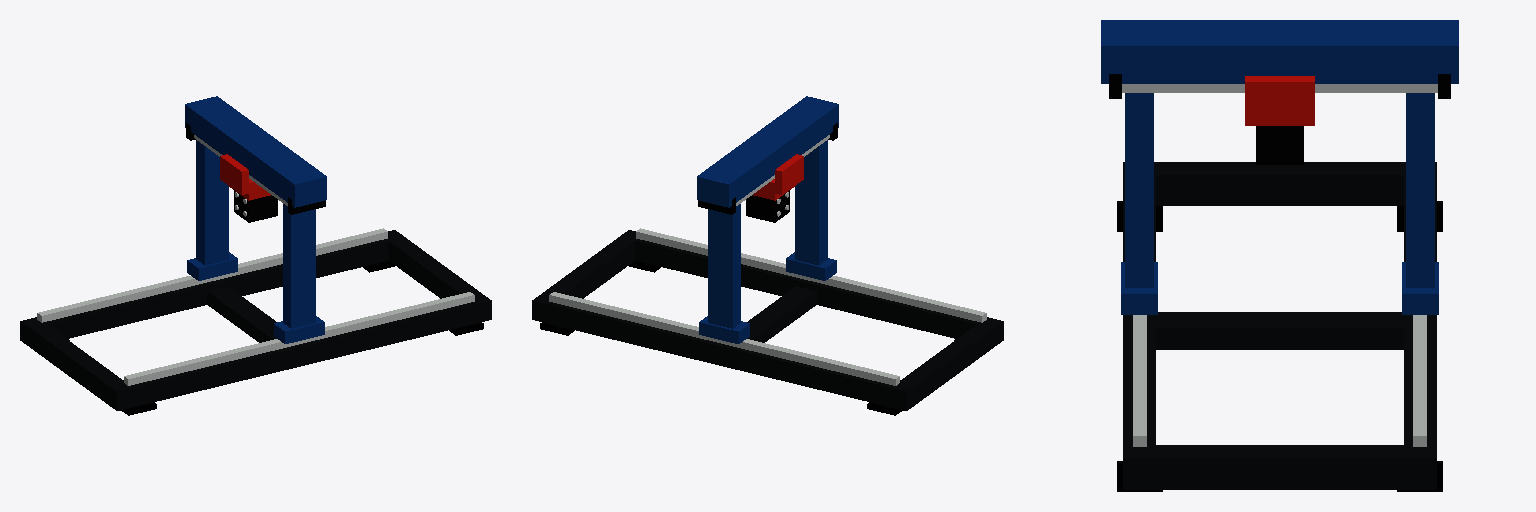
robot.urdf — bench_automation_gantry:
<robot name="bench_automation_gantry">
  <material name="black_anodized_aluminum">
    <color rgba="0.05 0.055 0.06 1" />
    </material>
  <material name="blue_gantry_carriage">
    <color rgba="0.04 0.19 0.42 1" />
    </material>
  <material name="red_center_shuttle">
    <color rgba="0.75 0.08 0.05 1" />
    </material>
  <material name="brushed_linear_rail_steel">
    <color rgba="0.72 0.74 0.73 1" />
    </material>
  <material name="matte_black_rubber">
    <color rgba="0.01 0.01 0.01 1" />
    </material>
  <material name="dark_fasteners">
    <color rgba="0.02 0.02 0.025 1" />
    </material>
  <link name="base_frame">
    <visual name="side_beam_0">
      <origin xyz="0 -0.32 0.04" rpy="0 0 0" />
      <geometry>
        <box size="1.6 0.075 0.08" />
        </geometry>
      <material name="black_anodized_aluminum">
        <color rgba="0.05 0.055 0.06 1" />
        </material>
      </visual>
    <visual name="side_beam_1">
      <origin xyz="0 0.32 0.04" rpy="0 0 0" />
      <geometry>
        <box size="1.6 0.075 0.08" />
        </geometry>
      <material name="black_anodized_aluminum">
        <color rgba="0.05 0.055 0.06 1" />
        </material>
      </visual>
    <visual name="end_beam_0">
      <origin xyz="-0.765 0 0.04" rpy="0 0 0" />
      <geometry>
        <box size="0.07 0.715 0.08" />
        </geometry>
      <material name="black_anodized_aluminum">
        <color rgba="0.05 0.055 0.06 1" />
        </material>
      </visual>
    <visual name="end_beam_1">
      <origin xyz="0.765 0 0.04" rpy="0 0 0" />
      <geometry>
        <box size="0.07 0.715 0.08" />
        </geometry>
      <material name="black_anodized_aluminum">
        <color rgba="0.05 0.055 0.06 1" />
        </material>
      </visual>
    <visual name="center_tie">
      <origin xyz="0 0 0.0275" rpy="0 0 0" />
      <geometry>
        <box size="0.09 0.715 0.055" />
        </geometry>
      <material name="black_anodized_aluminum">
        <color rgba="0.05 0.055 0.06 1" />
        </material>
      </visual>
    <visual name="linear_rail_0">
      <origin xyz="0 -0.32 0.094" rpy="0 0 0" />
      <geometry>
        <box size="1.48 0.032 0.028" />
        </geometry>
      <material name="brushed_linear_rail_steel">
        <color rgba="0.72 0.74 0.73 1" />
        </material>
      </visual>
    <visual name="linear_rail_1">
      <origin xyz="0 0.32 0.094" rpy="0 0 0" />
      <geometry>
        <box size="1.48 0.032 0.028" />
        </geometry>
      <material name="brushed_linear_rail_steel">
        <color rgba="0.72 0.74 0.73 1" />
        </material>
      </visual>
    <visual name="foot_0">
      <origin xyz="-0.7 -0.32 -0.011" rpy="0 0 0" />
      <geometry>
        <box size="0.12 0.105 0.022" />
        </geometry>
      <material name="matte_black_rubber">
        <color rgba="0.01 0.01 0.01 1" />
        </material>
      </visual>
    <visual name="foot_1">
      <origin xyz="-0.7 0.32 -0.011" rpy="0 0 0" />
      <geometry>
        <box size="0.12 0.105 0.022" />
        </geometry>
      <material name="matte_black_rubber">
        <color rgba="0.01 0.01 0.01 1" />
        </material>
      </visual>
    <visual name="foot_2">
      <origin xyz="0.7 -0.32 -0.011" rpy="0 0 0" />
      <geometry>
        <box size="0.12 0.105 0.022" />
        </geometry>
      <material name="matte_black_rubber">
        <color rgba="0.01 0.01 0.01 1" />
        </material>
      </visual>
    <visual name="foot_3">
      <origin xyz="0.7 0.32 -0.011" rpy="0 0 0" />
      <geometry>
        <box size="0.12 0.105 0.022" />
        </geometry>
      <material name="matte_black_rubber">
        <color rgba="0.01 0.01 0.01 1" />
        </material>
      </visual>
    <collision name="side_beam_0">
      <origin xyz="0 -0.32 0.04" rpy="0 0 0" />
      <geometry>
        <box size="1.6 0.075 0.08" />
        </geometry>
      </collision>
    <collision name="side_beam_1">
      <origin xyz="0 0.32 0.04" rpy="0 0 0" />
      <geometry>
        <box size="1.6 0.075 0.08" />
        </geometry>
      </collision>
    <collision name="end_beam_0">
      <origin xyz="-0.765 0 0.04" rpy="0 0 0" />
      <geometry>
        <box size="0.07 0.715 0.08" />
        </geometry>
      </collision>
    <collision name="end_beam_1">
      <origin xyz="0.765 0 0.04" rpy="0 0 0" />
      <geometry>
        <box size="0.07 0.715 0.08" />
        </geometry>
      </collision>
    <collision name="center_tie">
      <origin xyz="0 0 0.0275" rpy="0 0 0" />
      <geometry>
        <box size="0.09 0.715 0.055" />
        </geometry>
      </collision>
    <collision name="linear_rail_0">
      <origin xyz="0 -0.32 0.094" rpy="0 0 0" />
      <geometry>
        <box size="1.48 0.032 0.028" />
        </geometry>
      </collision>
    <collision name="linear_rail_1">
      <origin xyz="0 0.32 0.094" rpy="0 0 0" />
      <geometry>
        <box size="1.48 0.032 0.028" />
        </geometry>
      </collision>
    <collision name="foot_0">
      <origin xyz="-0.7 -0.32 -0.011" rpy="0 0 0" />
      <geometry>
        <box size="0.12 0.105 0.022" />
        </geometry>
      </collision>
    <collision name="foot_1">
      <origin xyz="-0.7 0.32 -0.011" rpy="0 0 0" />
      <geometry>
        <box size="0.12 0.105 0.022" />
        </geometry>
      </collision>
    <collision name="foot_2">
      <origin xyz="0.7 -0.32 -0.011" rpy="0 0 0" />
      <geometry>
        <box size="0.12 0.105 0.022" />
        </geometry>
      </collision>
    <collision name="foot_3">
      <origin xyz="0.7 0.32 -0.011" rpy="0 0 0" />
      <geometry>
        <box size="0.12 0.105 0.022" />
        </geometry>
      </collision>
    </link>
  <link name="bridge_carriage">
    <visual name="rail_shoe_0">
      <origin xyz="0 -0.32 0.134" rpy="0 0 0" />
      <geometry>
        <box size="0.17 0.085 0.052" />
        </geometry>
      <material name="blue_gantry_carriage">
        <color rgba="0.04 0.19 0.42 1" />
        </material>
      </visual>
    <visual name="upright_0">
      <origin xyz="0 -0.32 0.42" rpy="0 0 0" />
      <geometry>
        <box size="0.105 0.065 0.52" />
        </geometry>
      <material name="blue_gantry_carriage">
        <color rgba="0.04 0.19 0.42 1" />
        </material>
      </visual>
    <visual name="rail_shoe_1">
      <origin xyz="0 0.32 0.134" rpy="0 0 0" />
      <geometry>
        <box size="0.17 0.085 0.052" />
        </geometry>
      <material name="blue_gantry_carriage">
        <color rgba="0.04 0.19 0.42 1" />
        </material>
      </visual>
    <visual name="upright_1">
      <origin xyz="0 0.32 0.42" rpy="0 0 0" />
      <geometry>
        <box size="0.105 0.065 0.52" />
        </geometry>
      <material name="blue_gantry_carriage">
        <color rgba="0.04 0.19 0.42 1" />
        </material>
      </visual>
    <visual name="top_crossbeam">
      <origin xyz="0 0 0.728" rpy="0 0 0" />
      <geometry>
        <box size="0.14 0.815 0.095" />
        </geometry>
      <material name="blue_gantry_carriage">
        <color rgba="0.04 0.19 0.42 1" />
        </material>
      </visual>
    <visual name="y_linear_rail">
      <origin xyz="0 0 0.666" rpy="0 0 0" />
      <geometry>
        <box size="0.11 0.72 0.03" />
        </geometry>
      <material name="brushed_linear_rail_steel">
        <color rgba="0.72 0.74 0.73 1" />
        </material>
      </visual>
    <visual name="y_end_stop_0">
      <origin xyz="0 -0.375 0.675" rpy="0 0 0" />
      <geometry>
        <box size="0.145 0.03 0.06" />
        </geometry>
      <material name="dark_fasteners">
        <color rgba="0.02 0.02 0.025 1" />
        </material>
      </visual>
    <visual name="y_end_stop_1">
      <origin xyz="0 0.375 0.675" rpy="0 0 0" />
      <geometry>
        <box size="0.145 0.03 0.06" />
        </geometry>
      <material name="dark_fasteners">
        <color rgba="0.02 0.02 0.025 1" />
        </material>
      </visual>
    <collision name="rail_shoe_0">
      <origin xyz="0 -0.32 0.134" rpy="0 0 0" />
      <geometry>
        <box size="0.17 0.085 0.052" />
        </geometry>
      </collision>
    <collision name="upright_0">
      <origin xyz="0 -0.32 0.42" rpy="0 0 0" />
      <geometry>
        <box size="0.105 0.065 0.52" />
        </geometry>
      </collision>
    <collision name="rail_shoe_1">
      <origin xyz="0 0.32 0.134" rpy="0 0 0" />
      <geometry>
        <box size="0.17 0.085 0.052" />
        </geometry>
      </collision>
    <collision name="upright_1">
      <origin xyz="0 0.32 0.42" rpy="0 0 0" />
      <geometry>
        <box size="0.105 0.065 0.52" />
        </geometry>
      </collision>
    <collision name="top_crossbeam">
      <origin xyz="0 0 0.728" rpy="0 0 0" />
      <geometry>
        <box size="0.14 0.815 0.095" />
        </geometry>
      </collision>
    <collision name="y_linear_rail">
      <origin xyz="0 0 0.666" rpy="0 0 0" />
      <geometry>
        <box size="0.11 0.72 0.03" />
        </geometry>
      </collision>
    <collision name="y_end_stop_0">
      <origin xyz="0 -0.375 0.675" rpy="0 0 0" />
      <geometry>
        <box size="0.145 0.03 0.06" />
        </geometry>
      </collision>
    <collision name="y_end_stop_1">
      <origin xyz="0 0.375 0.675" rpy="0 0 0" />
      <geometry>
        <box size="0.145 0.03 0.06" />
        </geometry>
      </collision>
    </link>
  <link name="center_shuttle">
    <visual name="shuttle_core">
      <geometry>
        <box size="0.155 0.16 0.072" />
        </geometry>
      <material name="red_center_shuttle">
        <color rgba="0.75 0.08 0.05 1" />
        </material>
      </visual>
    <visual name="side_cheek_0">
      <origin xyz="-0.092 0 0.042" rpy="0 0 0" />
      <geometry>
        <box size="0.032 0.16 0.096" />
        </geometry>
      <material name="red_center_shuttle">
        <color rgba="0.75 0.08 0.05 1" />
        </material>
      </visual>
    <visual name="side_cheek_1">
      <origin xyz="0.092 0 0.042" rpy="0 0 0" />
      <geometry>
        <box size="0.032 0.16 0.096" />
        </geometry>
      <material name="red_center_shuttle">
        <color rgba="0.75 0.08 0.05 1" />
        </material>
      </visual>
    <visual name="tool_plate">
      <origin xyz="0 0 -0.086" rpy="0 0 0" />
      <geometry>
        <box size="0.122 0.108 0.11" />
        </geometry>
      <material name="dark_fasteners">
        <color rgba="0.02 0.02 0.025 1" />
        </material>
      </visual>
    <visual name="front_bolt_0">
      <origin xyz="-0.064 -0.032 -0.06" rpy="0 1.5708 0" />
      <geometry>
        <cylinder radius="0.01" length="0.006" />
        </geometry>
      <material name="brushed_linear_rail_steel">
        <color rgba="0.72 0.74 0.73 1" />
        </material>
      </visual>
    <visual name="front_bolt_1">
      <origin xyz="-0.064 0.032 -0.06" rpy="0 1.5708 0" />
      <geometry>
        <cylinder radius="0.01" length="0.006" />
        </geometry>
      <material name="brushed_linear_rail_steel">
        <color rgba="0.72 0.74 0.73 1" />
        </material>
      </visual>
    <visual name="front_bolt_2">
      <origin xyz="-0.064 -0.032 -0.112" rpy="0 1.5708 0" />
      <geometry>
        <cylinder radius="0.01" length="0.006" />
        </geometry>
      <material name="brushed_linear_rail_steel">
        <color rgba="0.72 0.74 0.73 1" />
        </material>
      </visual>
    <visual name="front_bolt_3">
      <origin xyz="-0.064 0.032 -0.112" rpy="0 1.5708 0" />
      <geometry>
        <cylinder radius="0.01" length="0.006" />
        </geometry>
      <material name="brushed_linear_rail_steel">
        <color rgba="0.72 0.74 0.73 1" />
        </material>
      </visual>
    <collision name="shuttle_core">
      <geometry>
        <box size="0.155 0.16 0.072" />
        </geometry>
      </collision>
    <collision name="side_cheek_0">
      <origin xyz="-0.092 0 0.042" rpy="0 0 0" />
      <geometry>
        <box size="0.032 0.16 0.096" />
        </geometry>
      </collision>
    <collision name="side_cheek_1">
      <origin xyz="0.092 0 0.042" rpy="0 0 0" />
      <geometry>
        <box size="0.032 0.16 0.096" />
        </geometry>
      </collision>
    <collision name="tool_plate">
      <origin xyz="0 0 -0.086" rpy="0 0 0" />
      <geometry>
        <box size="0.122 0.108 0.11" />
        </geometry>
      </collision>
    <collision name="front_bolt_0">
      <origin xyz="-0.064 -0.032 -0.06" rpy="0 1.5708 0" />
      <geometry>
        <cylinder radius="0.01" length="0.006" />
        </geometry>
      </collision>
    <collision name="front_bolt_1">
      <origin xyz="-0.064 0.032 -0.06" rpy="0 1.5708 0" />
      <geometry>
        <cylinder radius="0.01" length="0.006" />
        </geometry>
      </collision>
    <collision name="front_bolt_2">
      <origin xyz="-0.064 -0.032 -0.112" rpy="0 1.5708 0" />
      <geometry>
        <cylinder radius="0.01" length="0.006" />
        </geometry>
      </collision>
    <collision name="front_bolt_3">
      <origin xyz="-0.064 0.032 -0.112" rpy="0 1.5708 0" />
      <geometry>
        <cylinder radius="0.01" length="0.006" />
        </geometry>
      </collision>
    </link>
  <joint name="base_to_bridge" type="prismatic">
    <parent link="base_frame" />
    <child link="bridge_carriage" />
    <axis xyz="1 0 0" />
    <limit effort="180" velocity="0.45" lower="-0.46" upper="0.46" />
    </joint>
  <joint name="bridge_to_shuttle" type="prismatic">
    <origin xyz="0 0 0.615" rpy="0 0 0" />
    <parent link="bridge_carriage" />
    <child link="center_shuttle" />
    <axis xyz="0 1 0" />
    <limit effort="90" velocity="0.35" lower="-0.255" upper="0.255" />
    </joint>
  </robot>

--- Facts derived from the render (not from the file) ---
The picture shows the robot from 3 angles, left to right: view 1: azimuth 30°, elevation 25°; view 2: azimuth 150°, elevation 25°; view 3: azimuth 270°, elevation 25°; orthographic projection.
Model bench_automation_gantry with 3 links and 2 joints (2 prismatic), rooted at base_frame, posed all joints at 0.
Links seen in each view (by area): view 1: base_frame, bridge_carriage, center_shuttle; view 2: base_frame, bridge_carriage, center_shuttle; view 3: base_frame, bridge_carriage, center_shuttle.
Link boxes in pixels (x1=…): base_frame: x1=20, y1=228, x2=491, y2=415; bridge_carriage: x1=185, y1=96, x2=326, y2=343; center_shuttle: x1=220, y1=154, x2=277, y2=222; base_frame: x1=532, y1=228, x2=1003, y2=415; bridge_carriage: x1=697, y1=96, x2=838, y2=343; center_shuttle: x1=746, y1=154, x2=803, y2=222; base_frame: x1=1117, y1=162, x2=1442, y2=491; bridge_carriage: x1=1101, y1=20, x2=1458, y2=314; center_shuttle: x1=1245, y1=76, x2=1314, y2=164.
Bounding box of the posed robot: 1.6 × 0.815 × 0.7975 m (x, y, z).
Geometry: primitives only (box / cylinder / sphere), no mesh files.
